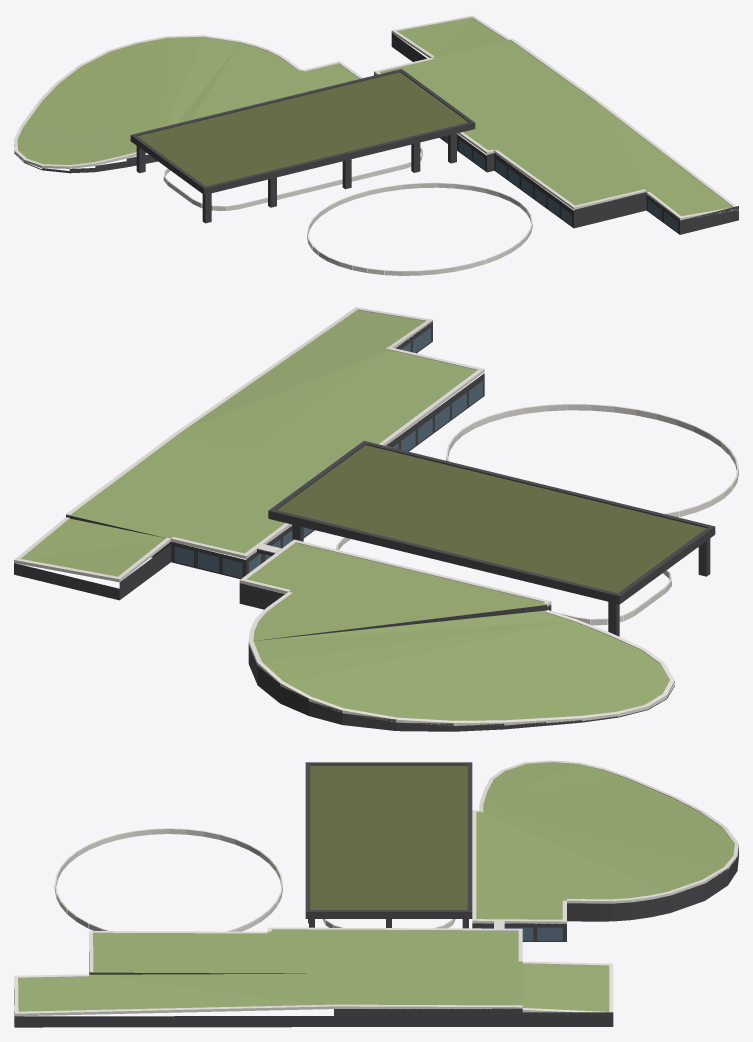
The model's file is nyc-lefrak-center.glb.
3 renders of one model, top to bottom at view 1: azimuth 30°, elevation 25°; view 2: azimuth 150°, elevation 25°; view 3: azimuth 270°, elevation 25°, orthographic. The views are drawn at different scales.
Parts seen in each view (by area): view 1: LeFrak Center at Lakeside; view 2: LeFrak Center at Lakeside; view 3: LeFrak Center at Lakeside.
Boxes of the visible parts, x1,y1,x2,y2 form: LeFrak Center at Lakeside: (14, 15, 738, 275); LeFrak Center at Lakeside: (14, 307, 738, 731); LeFrak Center at Lakeside: (14, 760, 738, 1027).
Size of the model in its own units: 123 by 8.95 by 143.
